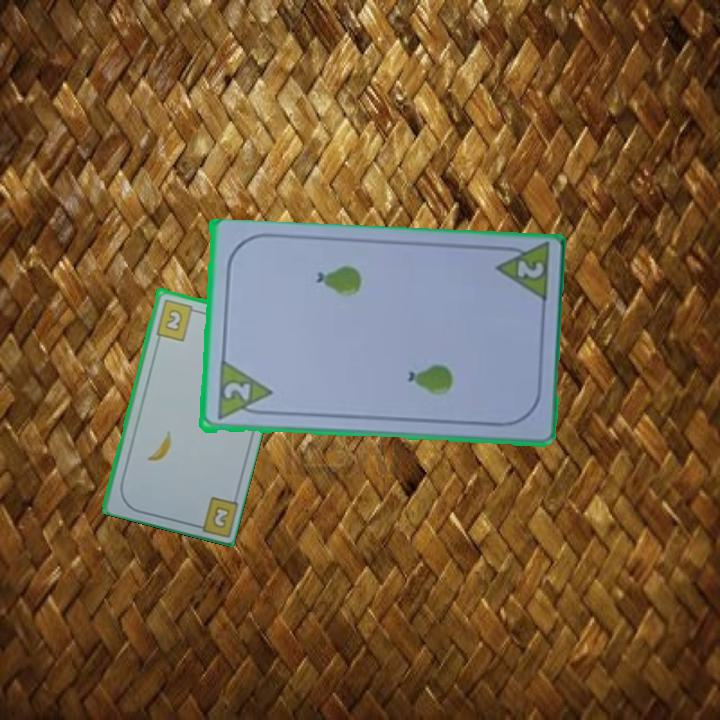2b: (152, 296, 201, 343), (209, 502, 233, 531)
2p: (219, 379, 254, 405), (513, 257, 547, 282)
